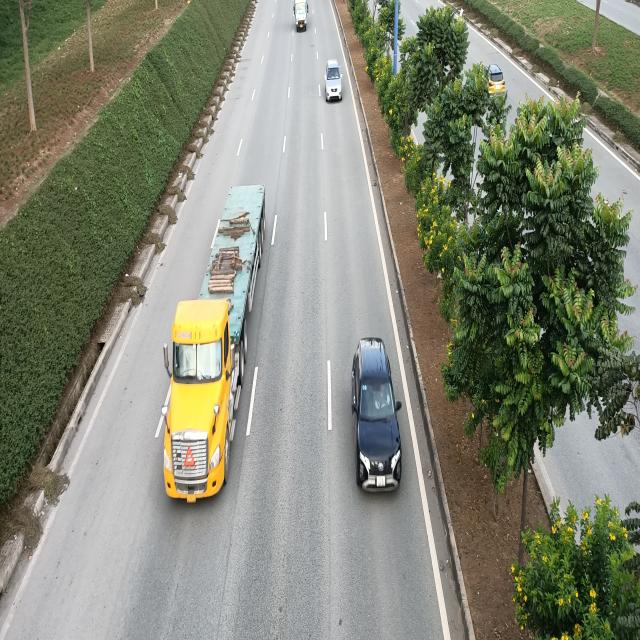car: (348, 338, 401, 494), (325, 59, 344, 101)
container: (165, 182, 269, 502)
van: (295, 1, 308, 31)
